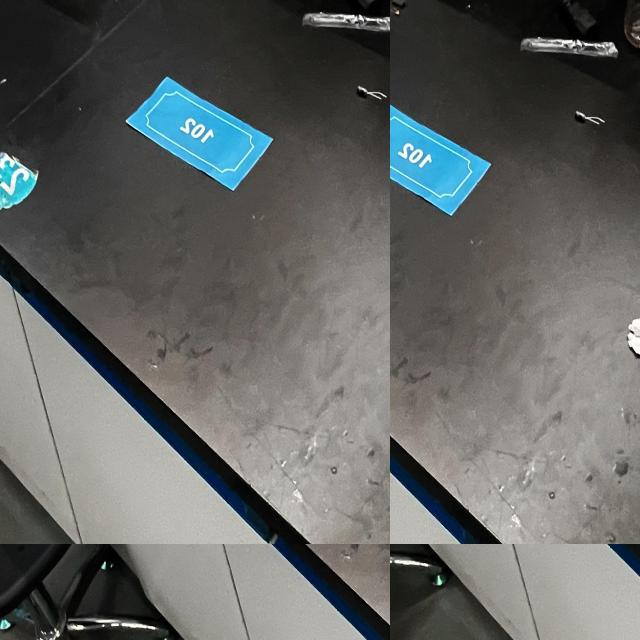Card: (0, 544, 390, 640), (390, 410, 585, 544), (191, 0, 390, 107), (390, 0, 480, 197)
